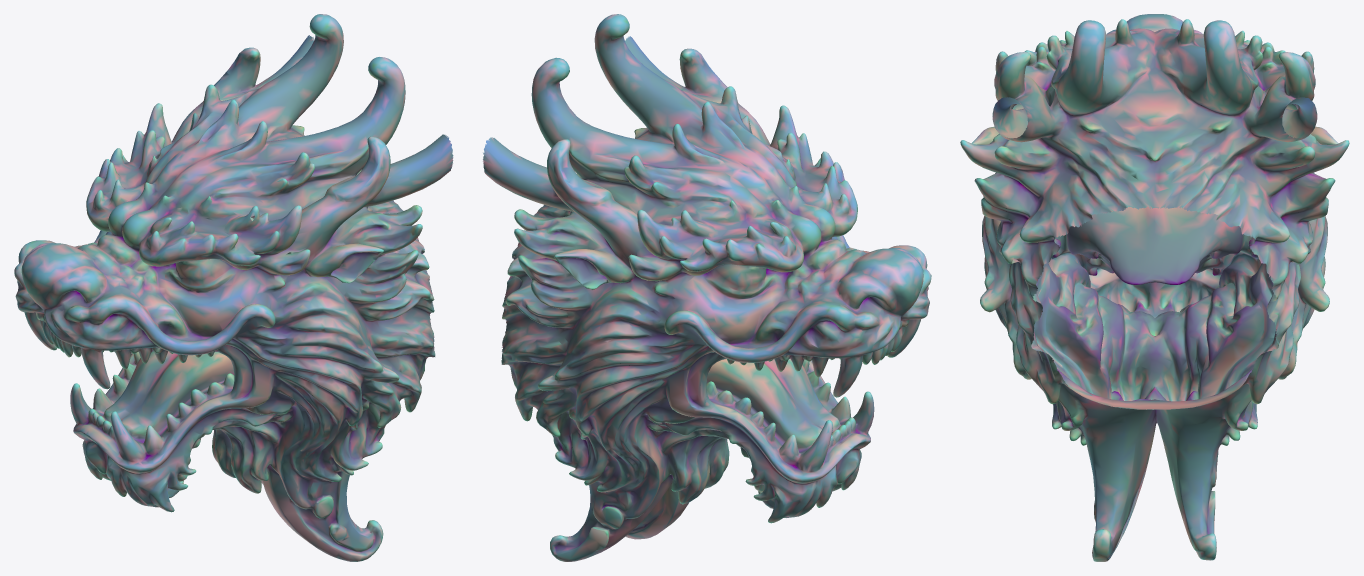
The model's file is guard.glb.
The picture shows the model from 3 angles, left to right: view 1: azimuth 30°, elevation 25°; view 2: azimuth 150°, elevation 25°; view 3: azimuth 270°, elevation 25°; orthographic projection. The views are drawn at different scales.
Visible parts, largest first — view 1: guard; view 2: guard; view 3: guard.
Boxes of the visible parts, <box> form: guard: <box>14,14,453,561</box>; guard: <box>483,14,931,561</box>; guard: <box>960,14,1349,561</box>.
Bounding box in the file's own units: 0.0992 × 0.1344 × 0.0866.
